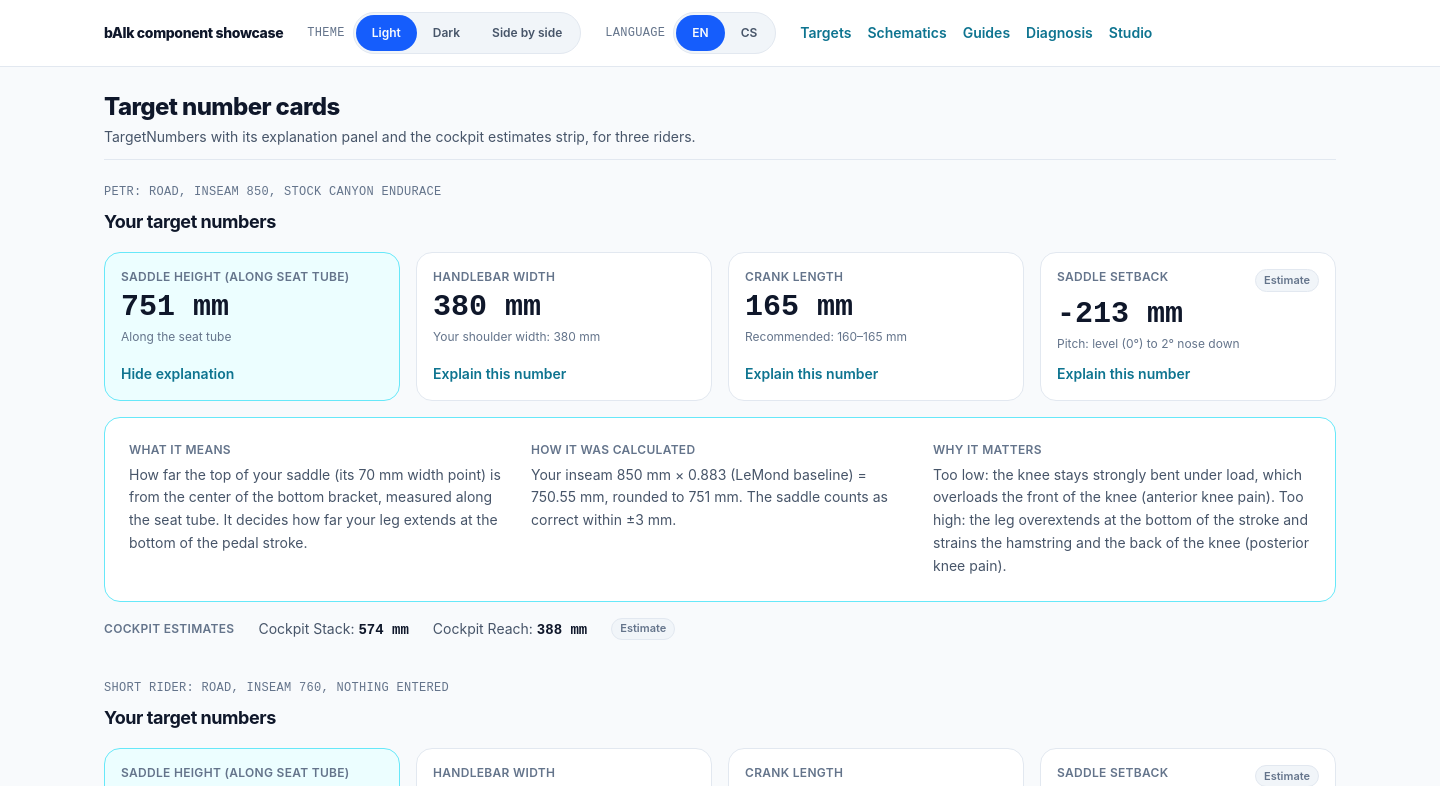
Test: showcase language (cs) › should switch every section to the dictionary and leave no unfilled placeholder
Click the button "CS". click: (749, 33)
box: [725,15,773,51]
(page scrolled)
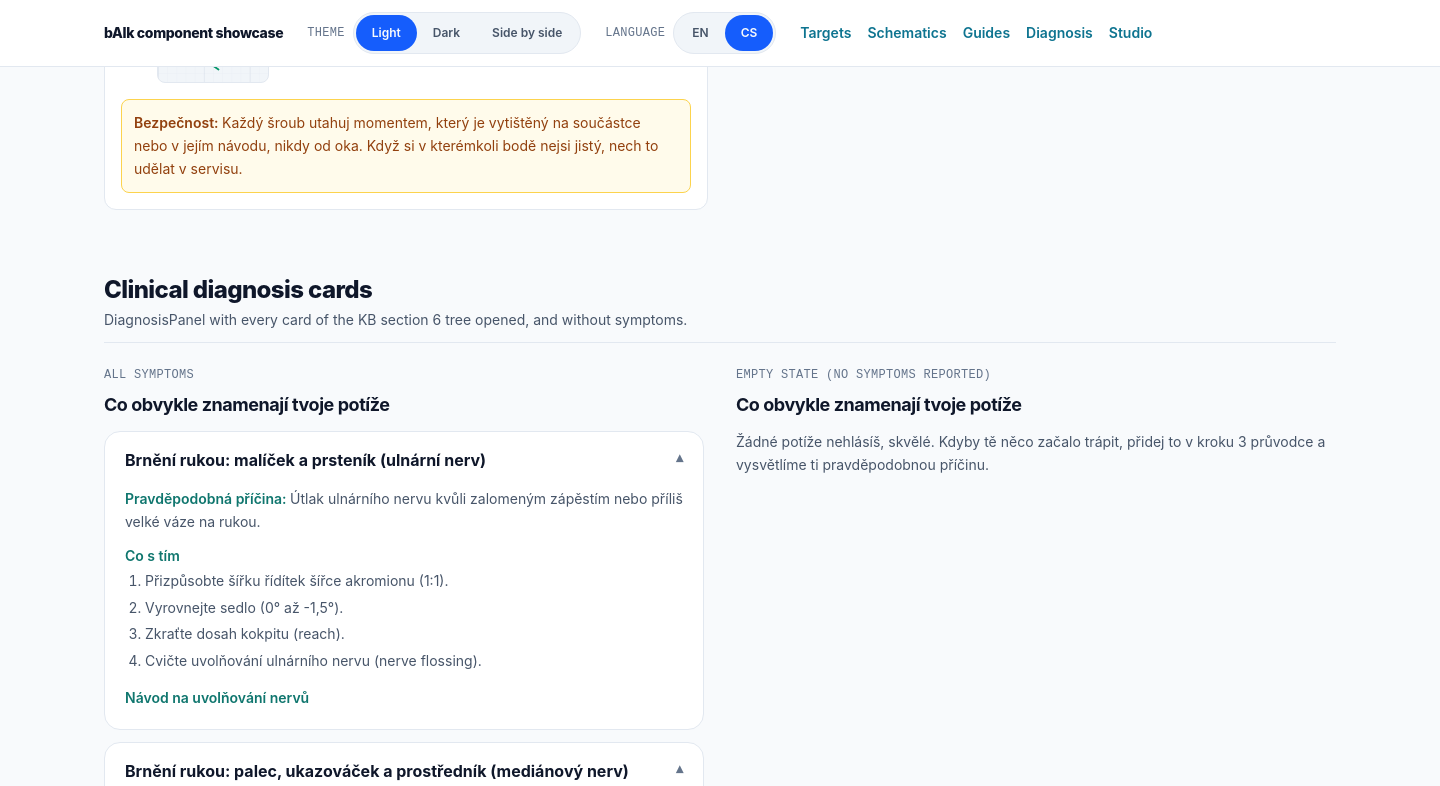
Result: the heading "Co obvykle znamenají tvoje potíže" below "All symptoms" is shown at [104,394,390,415]
